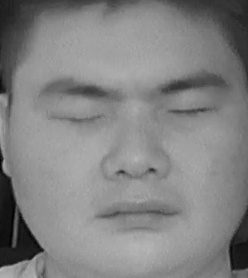blink: (52, 100, 103, 134), (168, 92, 213, 128)
mouth: (93, 188, 185, 233)
